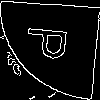P: (25, 25, 78, 63)
